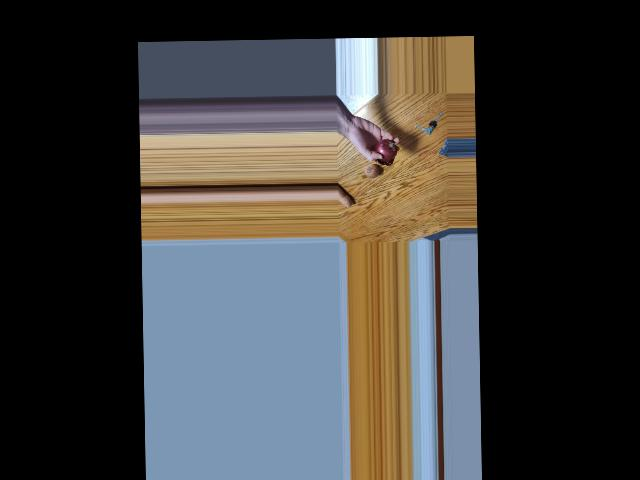onion: (364, 157, 379, 180)
